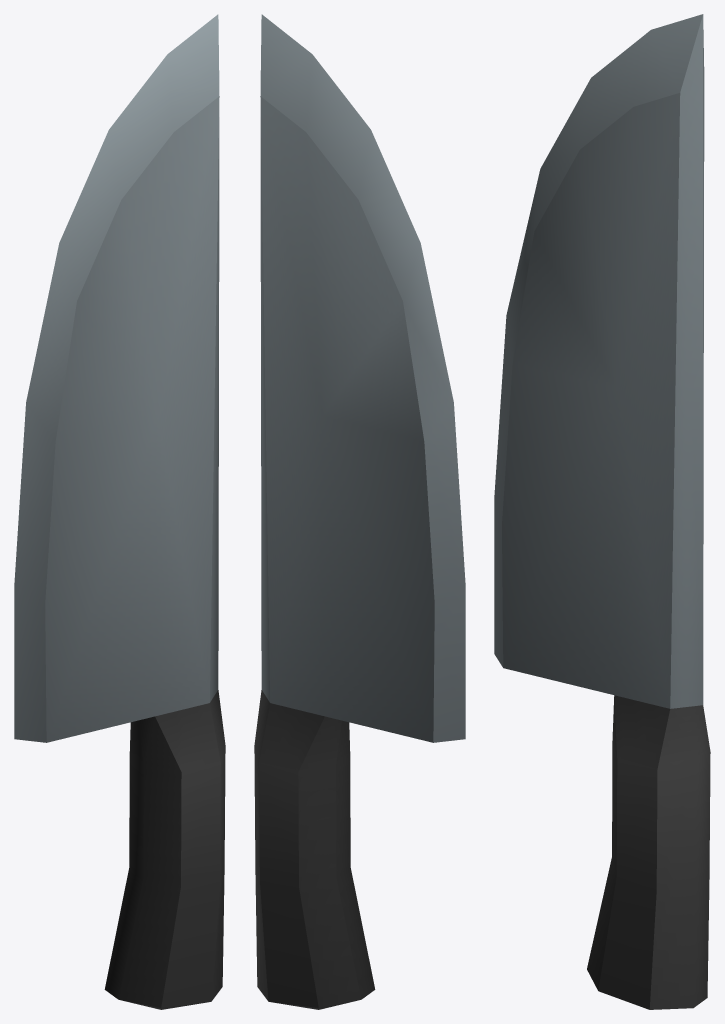
The model's file is Chef Knife.glb.
The picture shows the model from 3 angles, left to right: view 1: azimuth 30°, elevation 25°; view 2: azimuth 150°, elevation 25°; view 3: azimuth 330°, elevation 25°; orthographic projection. The views are drawn at different scales.
Visible parts, largest first — view 1: knife; view 2: knife; view 3: knife.
Part boxes in pixels (x1,y1,x2,y2): knife: (14,14,225,1009); knife: (254,14,465,1009); knife: (494,14,710,1009).
Bounding box in the file's own units: 0.25 × 1.15 × 0.1.
Materials: 1 (1 with a texture image).
